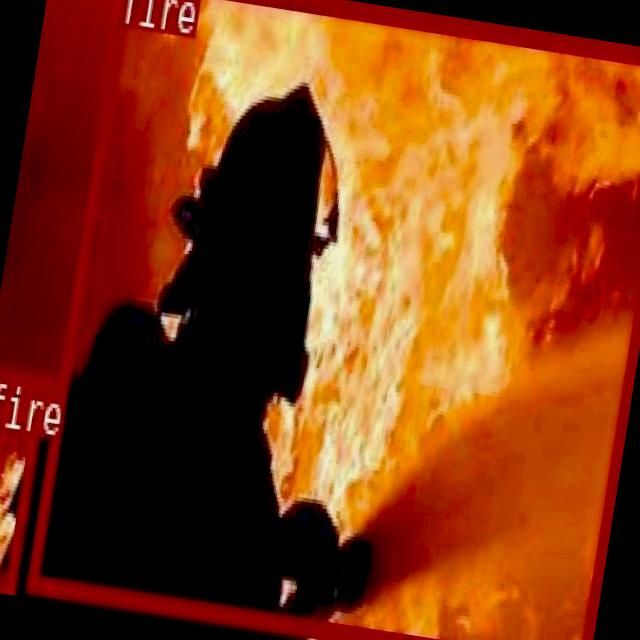fire: (27, 0, 640, 640), (0, 426, 35, 587)
